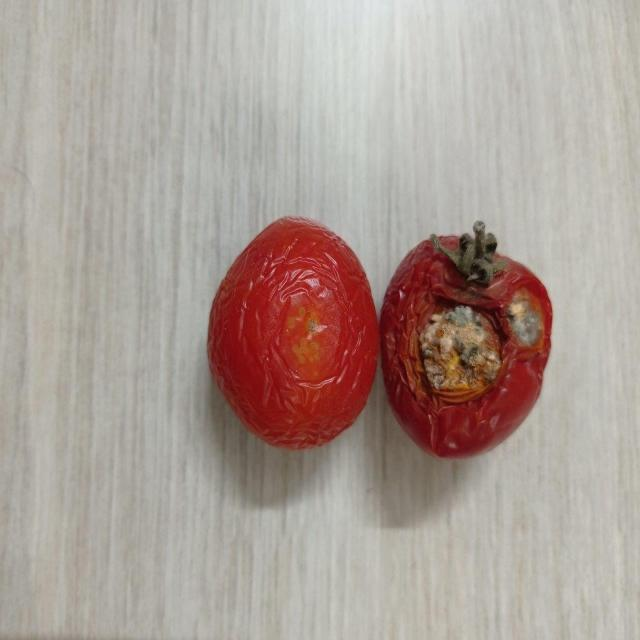Rotten: (382, 231, 552, 459)
overripe: (205, 214, 381, 450)
